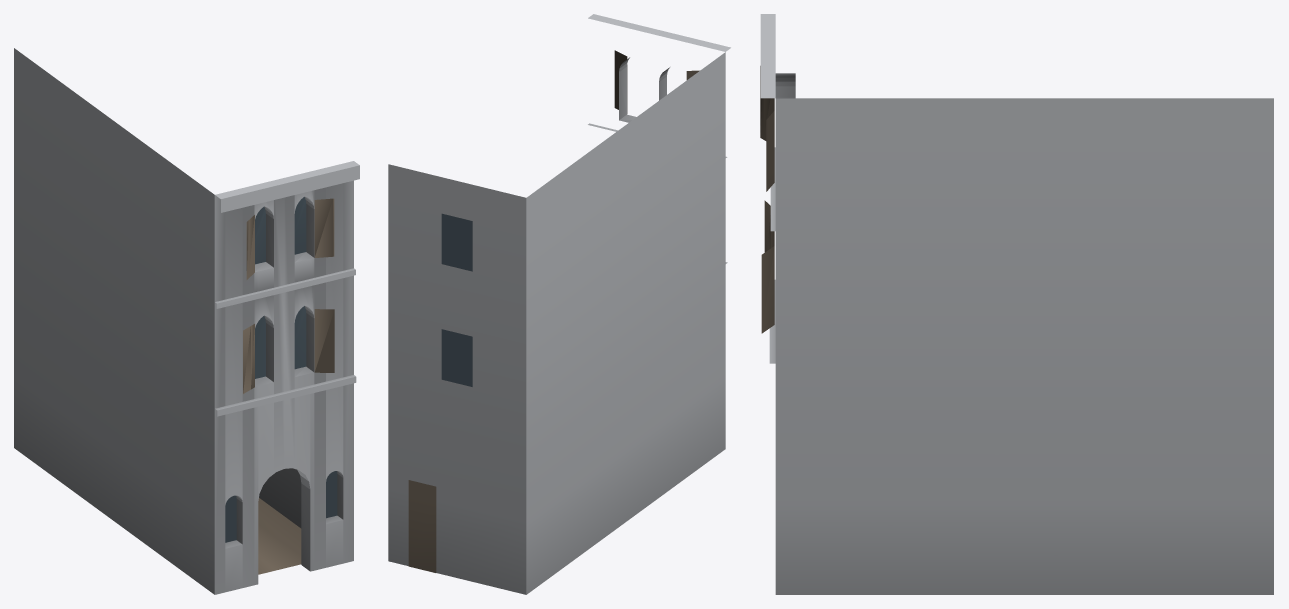
The model's file is sg_house_open.glb.
3 views of the same model, side by side, from view 1: azimuth 30°, elevation 25°; view 2: azimuth 150°, elevation 25°; view 3: azimuth 270°, elevation 25° (orthographic). The views are drawn at different scales.
Visible parts, largest first — view 1: sg_house_open_SG_Stone, sg_house_open_SG_Joinery, sg_house_open_SG_Glass; view 2: sg_house_open_SG_Stone, sg_house_open_SG_Glass, sg_house_open_SG_Joinery; view 3: sg_house_open_SG_Stone, sg_house_open_SG_Joinery.
Boxes of the visible parts, box(x1,y1,x2,y2) form: sg_house_open_SG_Stone: box(14, 48, 359, 594); sg_house_open_SG_Joinery: box(243, 198, 334, 574); sg_house_open_SG_Glass: box(225, 197, 337, 542); sg_house_open_SG_Stone: box(388, 14, 730, 594); sg_house_open_SG_Glass: box(441, 213, 472, 386); sg_house_open_SG_Joinery: box(408, 50, 699, 572); sg_house_open_SG_Stone: box(760, 14, 1273, 594); sg_house_open_SG_Joinery: box(760, 66, 774, 333).
Size of the model in its own units: 4 by 11 by 10.33.
